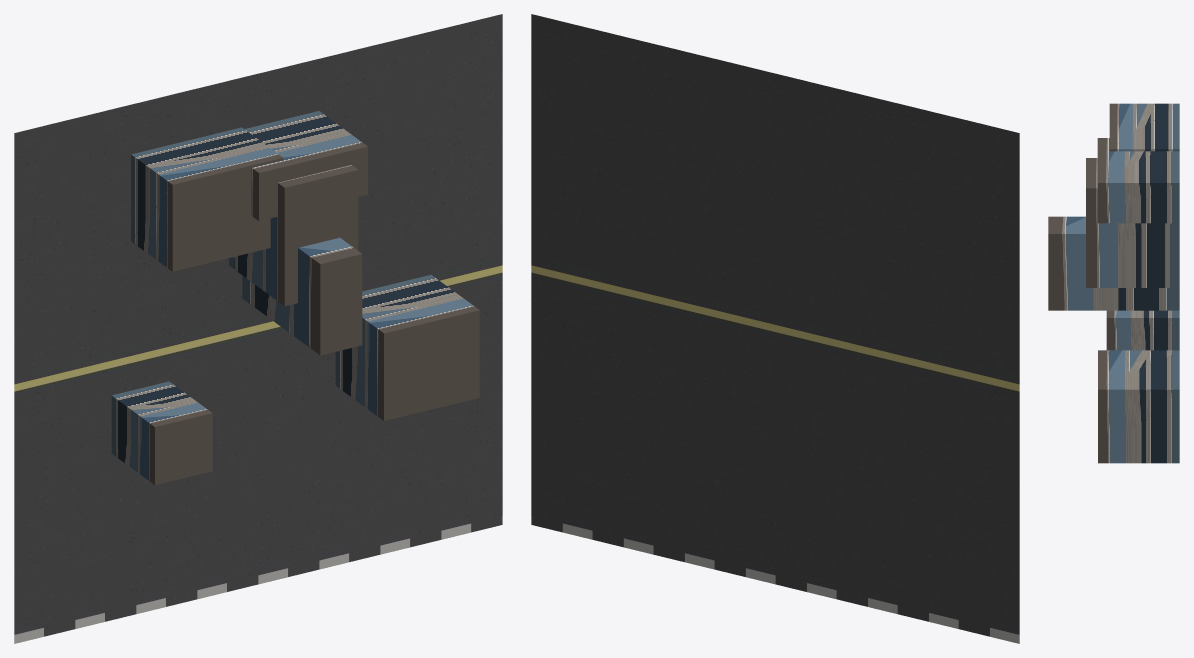
3 renders of one model, left to right at view 1: azimuth 30°, elevation 25°; view 2: azimuth 150°, elevation 25°; view 3: azimuth 270°, elevation 25°, orthographic. The views are drawn at different scales.
Size of the model in its own units: 119 by 119 by 32.96.
2 materials, 2 textured.
